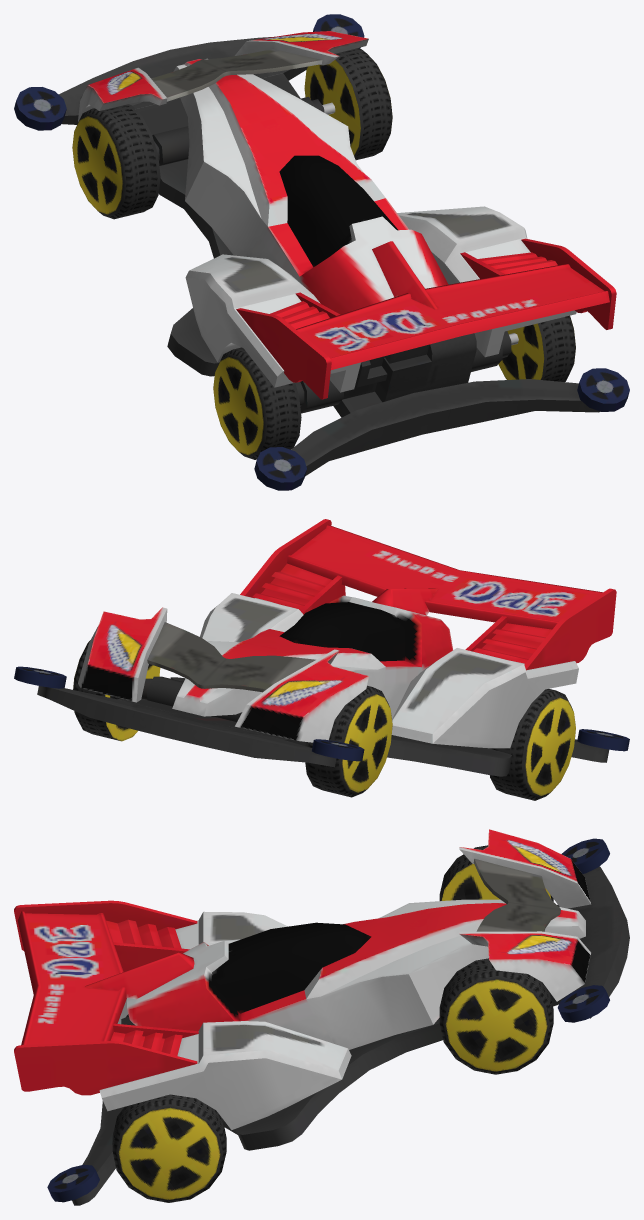
The model's file is ref_gtracecar.fbx.
3 views of the same model, one above another, from view 1: azimuth 30°, elevation 25°; view 2: azimuth 150°, elevation 25°; view 3: azimuth 270°, elevation 25° (orthographic).
Parts seen in each view (by area): view 1: ref_gtracecar; view 2: ref_gtracecar; view 3: ref_gtracecar.
Boxes of the visible parts, x1,y1,x2,y2 form: ref_gtracecar: (14,14,629,490); ref_gtracecar: (14,519,629,800); ref_gtracecar: (14,829,629,1205).
Size of the model in its own units: 69.48 by 42.69 by 100.
1 material, 1 textured.
